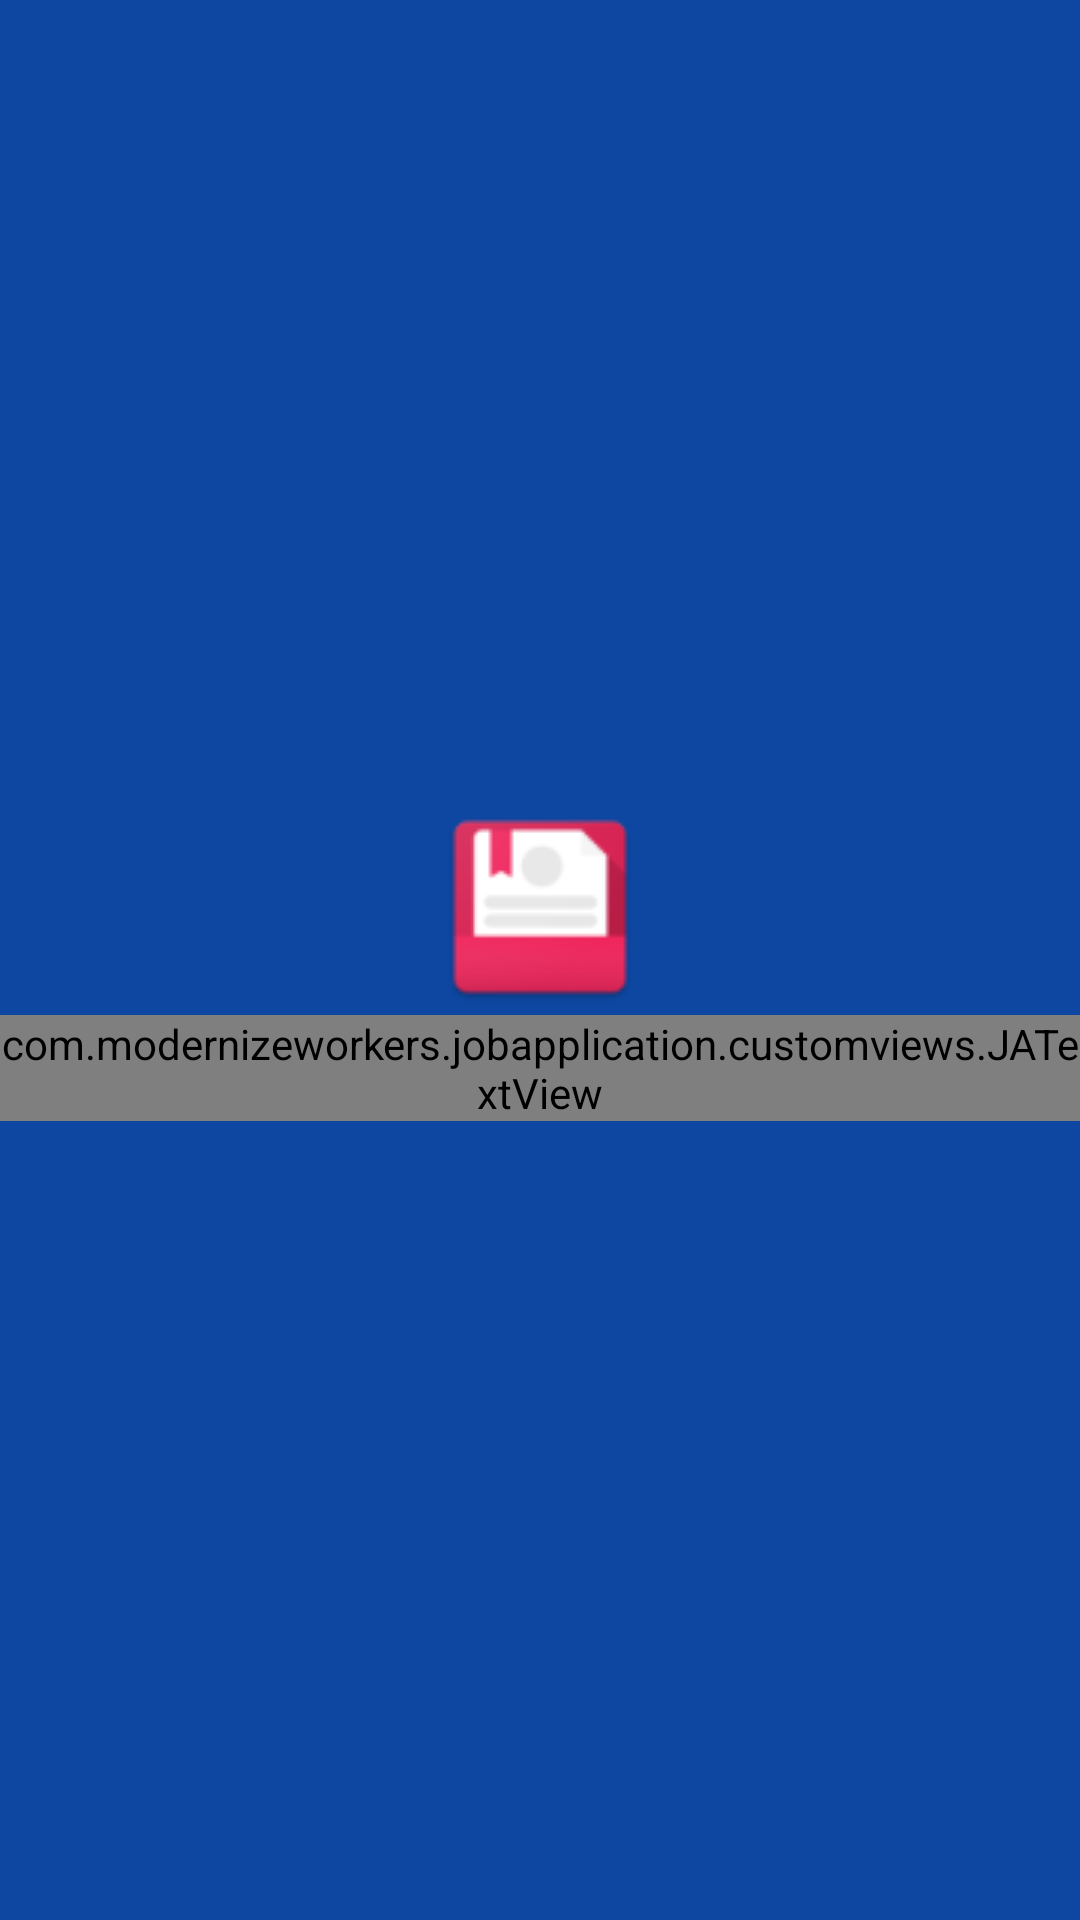

Icons on this 1080×1920 Android screen, each with its box as (x1,y1,x2,y2):
app: (452,819,628,996)
